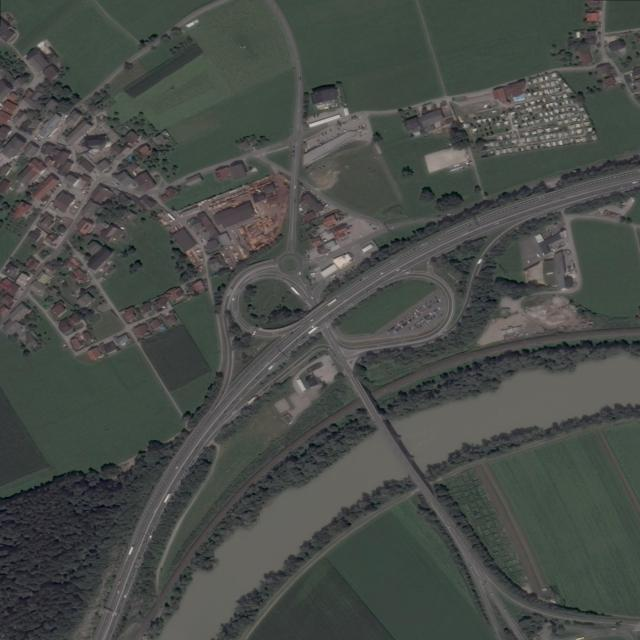large-vehicle: (291, 286, 300, 296), (248, 396, 258, 404), (308, 326, 318, 334), (327, 299, 338, 306), (164, 493, 171, 503), (167, 213, 175, 221), (128, 547, 134, 554), (478, 258, 482, 264), (331, 274, 337, 278), (117, 580, 121, 585), (484, 104, 488, 109), (632, 181, 638, 184), (310, 273, 316, 275), (312, 325, 315, 328)
small-vehicle: (492, 110, 497, 113), (494, 222, 498, 225), (310, 319, 314, 322), (380, 272, 384, 275), (437, 215, 441, 217), (447, 214, 451, 216), (612, 628, 616, 630), (396, 269, 399, 271)
